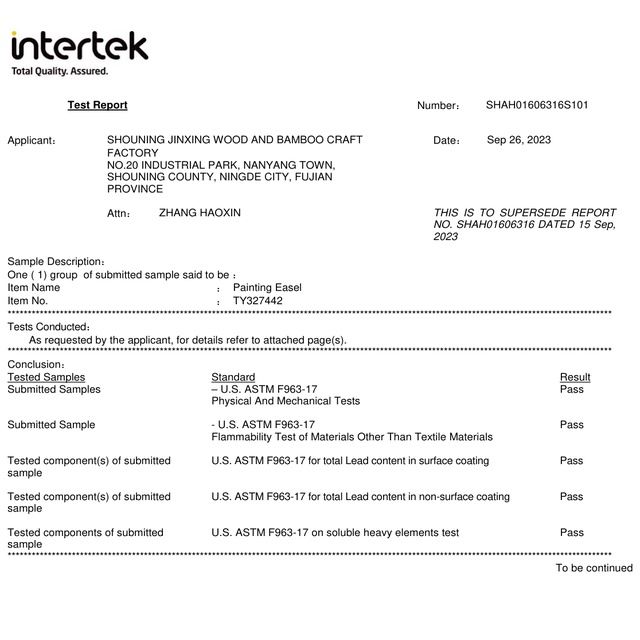intertek: (8, 24, 153, 65)
